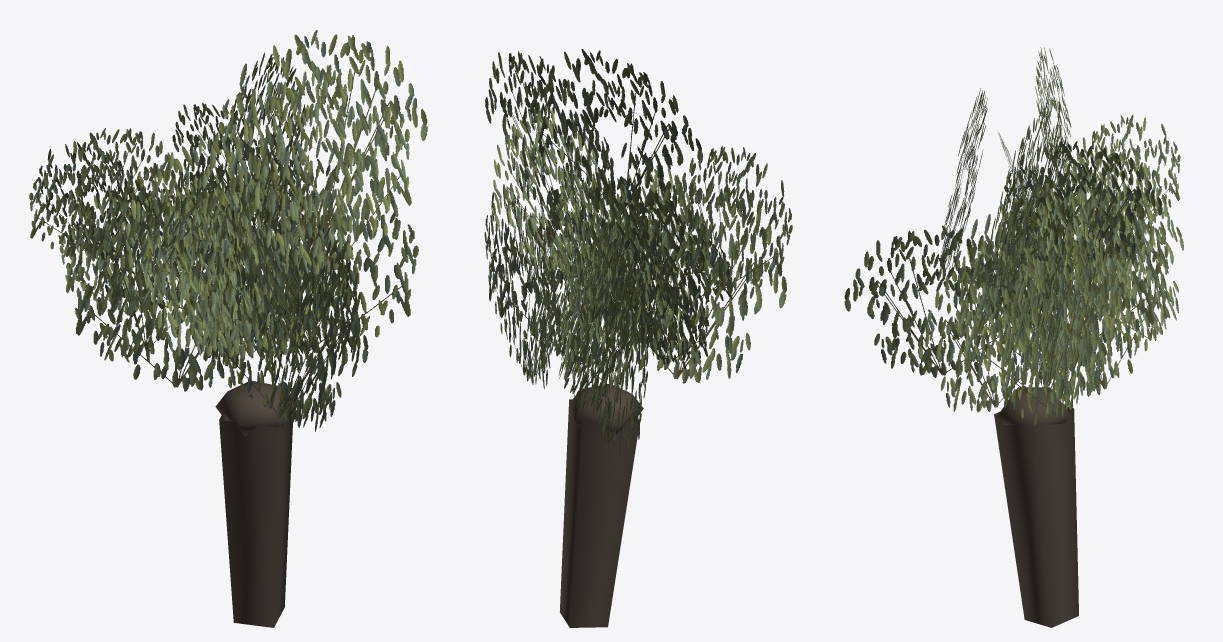
Rendered from tpl_rec_bank_meadow_pollard_lo.glb.
3 renders of one model, left to right at view 1: azimuth 30°, elevation 25°; view 2: azimuth 150°, elevation 25°; view 3: azimuth 270°, elevation 25°, orthographic. The views are drawn at different scales.
Parts seen in each view (by area): view 1: tpl_rec_bank_meadow_pollard_lo; view 2: tpl_rec_bank_meadow_pollard_lo; view 3: tpl_rec_bank_meadow_pollard_lo.
Part boxes in pixels (x1,y1,x2,y2): tpl_rec_bank_meadow_pollard_lo: (29,30,427,627); tpl_rec_bank_meadow_pollard_lo: (484,49,792,627); tpl_rec_bank_meadow_pollard_lo: (844,47,1183,627).
Size of the model in its own units: 4.6 by 6.76 by 4.2.
Materials: 2 (1 with a texture image).
